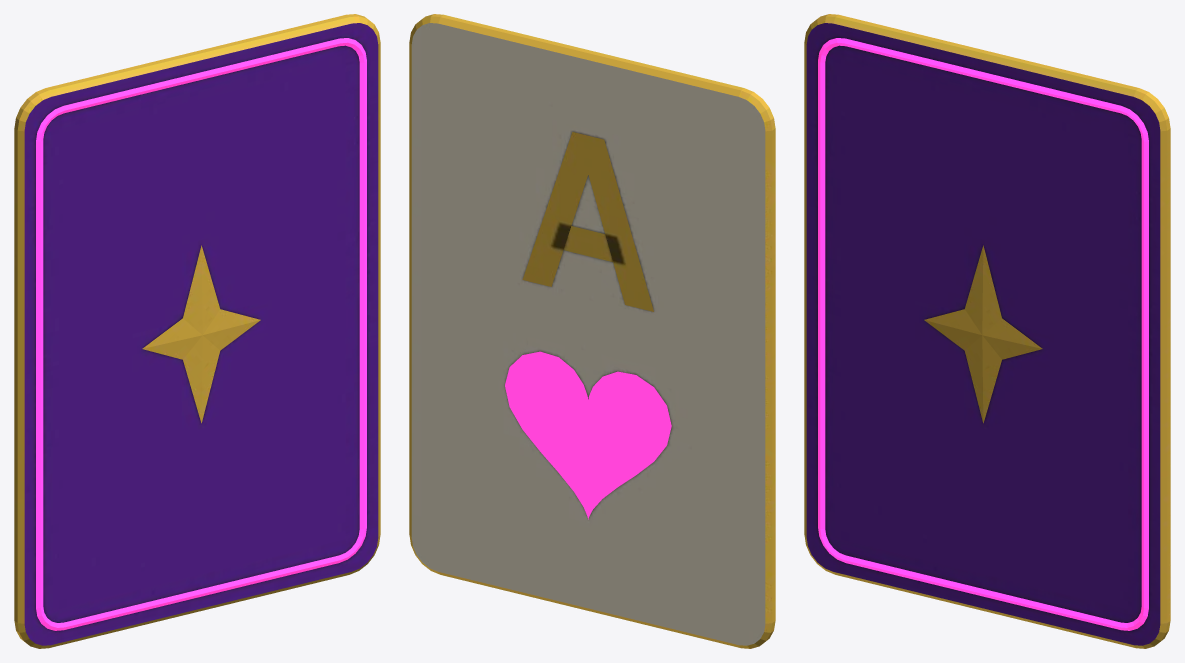
3 renders of one model, left to right at view 1: azimuth 30°, elevation 25°; view 2: azimuth 150°, elevation 25°; view 3: azimuth 330°, elevation 25°, orthographic.
Visible parts, largest first — view 1: Royal_purple_lacquer, Polished_gold, glow_Hot_pink_neon; view 2: Ivory_card_face, Polished_gold, glow_Hot_pink_neon; view 3: Royal_purple_lacquer, Polished_gold, glow_Hot_pink_neon.
Part boxes in pixels (x1=…): Royal_purple_lacquer: x1=24, y1=23, x2=378, y2=645; Polished_gold: x1=14, y1=14, x2=380, y2=648; glow_Hot_pink_neon: x1=36, y1=38, x2=366, y2=630; Ivory_card_face: x1=411, y1=23, x2=765, y2=645; Polished_gold: x1=409, y1=14, x2=775, y2=648; glow_Hot_pink_neon: x1=505, y1=351, x2=671, y2=519; Royal_purple_lacquer: x1=806, y1=23, x2=1160, y2=645; Polished_gold: x1=804, y1=14, x2=1170, y2=648; glow_Hot_pink_neon: x1=818, y1=38, x2=1148, y2=630.
Size of the model in its own units: 0.64 by 0.94 by 0.029.
Materials: 4 (3 with a texture image).
